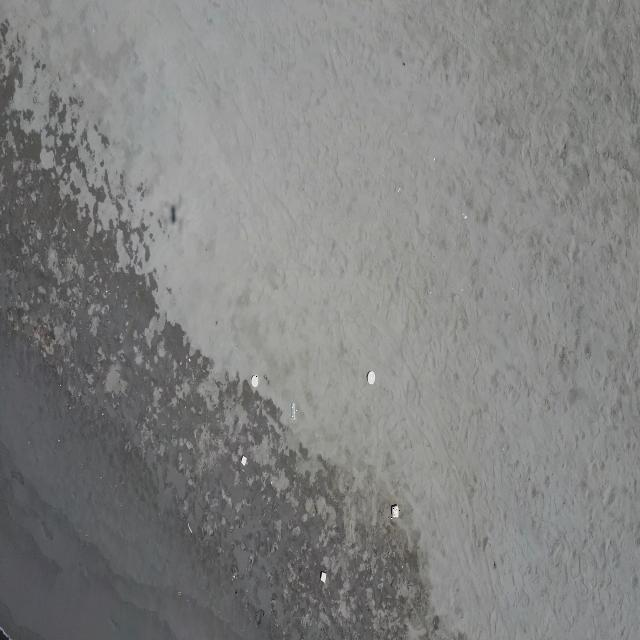take-away-containers: (391, 503, 400, 519), (367, 370, 376, 385), (320, 570, 327, 584), (252, 373, 258, 388), (241, 454, 247, 467)
takeaway-cup: (290, 401, 297, 421)
